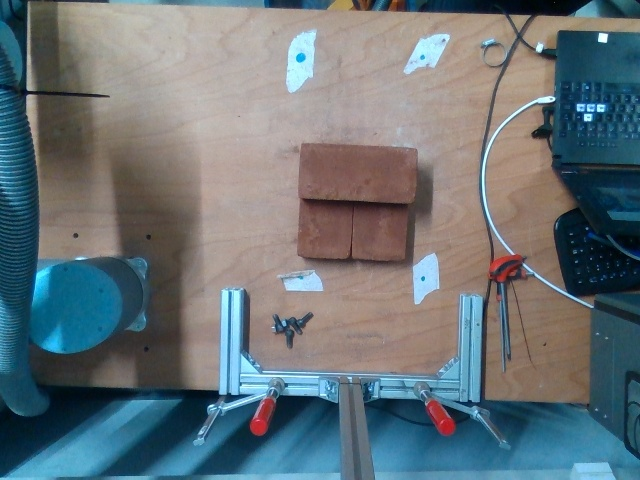brick: (300, 142, 416, 201)
